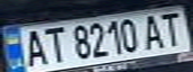0: (118, 16, 142, 53)
1: (106, 18, 124, 55)
2: (87, 20, 109, 58)
8: (69, 21, 90, 61)
A: (18, 27, 51, 68), (139, 12, 169, 50)
T: (36, 25, 69, 64), (154, 9, 187, 47)
